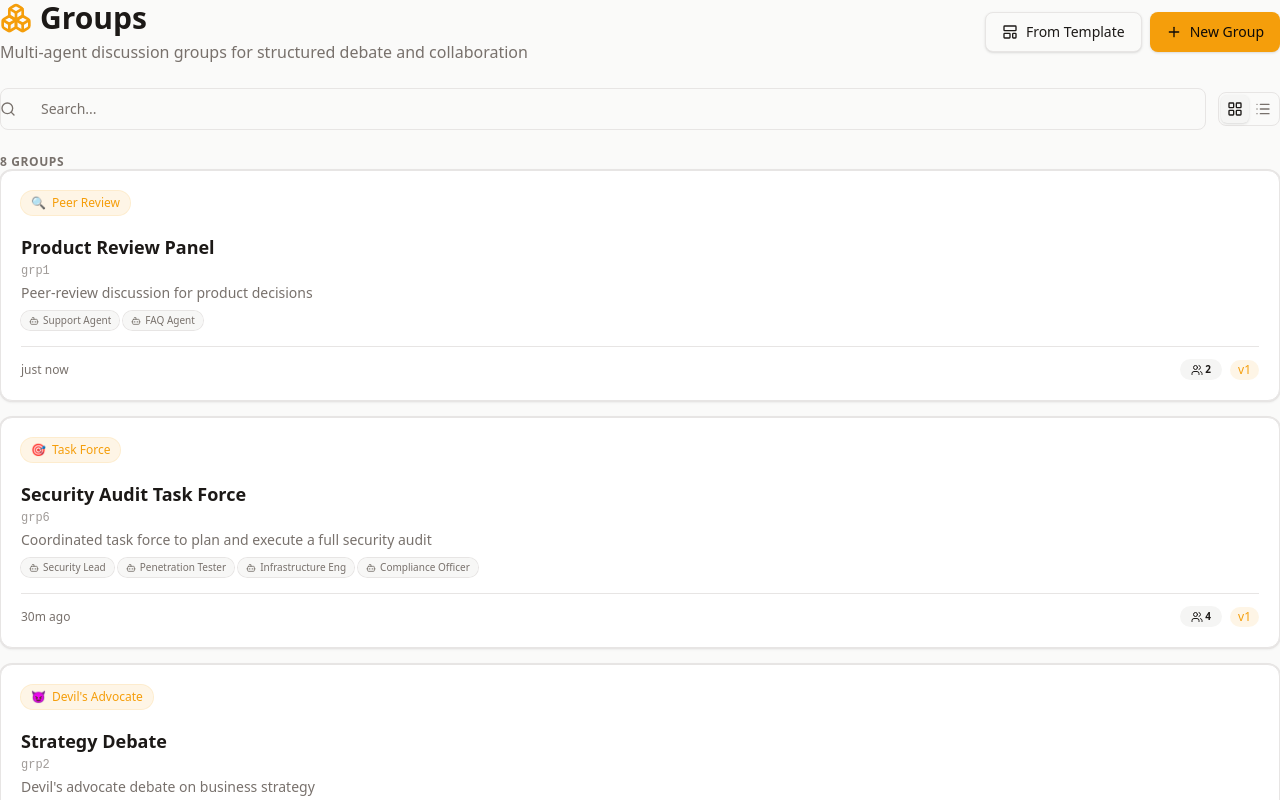
Test: GroupsPage › opens create-or-wizard dialog when create button is clicked
The width and height of the screenshot is (1280, 800).
Click the button with test id "create-group-btn".
click(1215, 32)  # box [1150,12,1279,52]
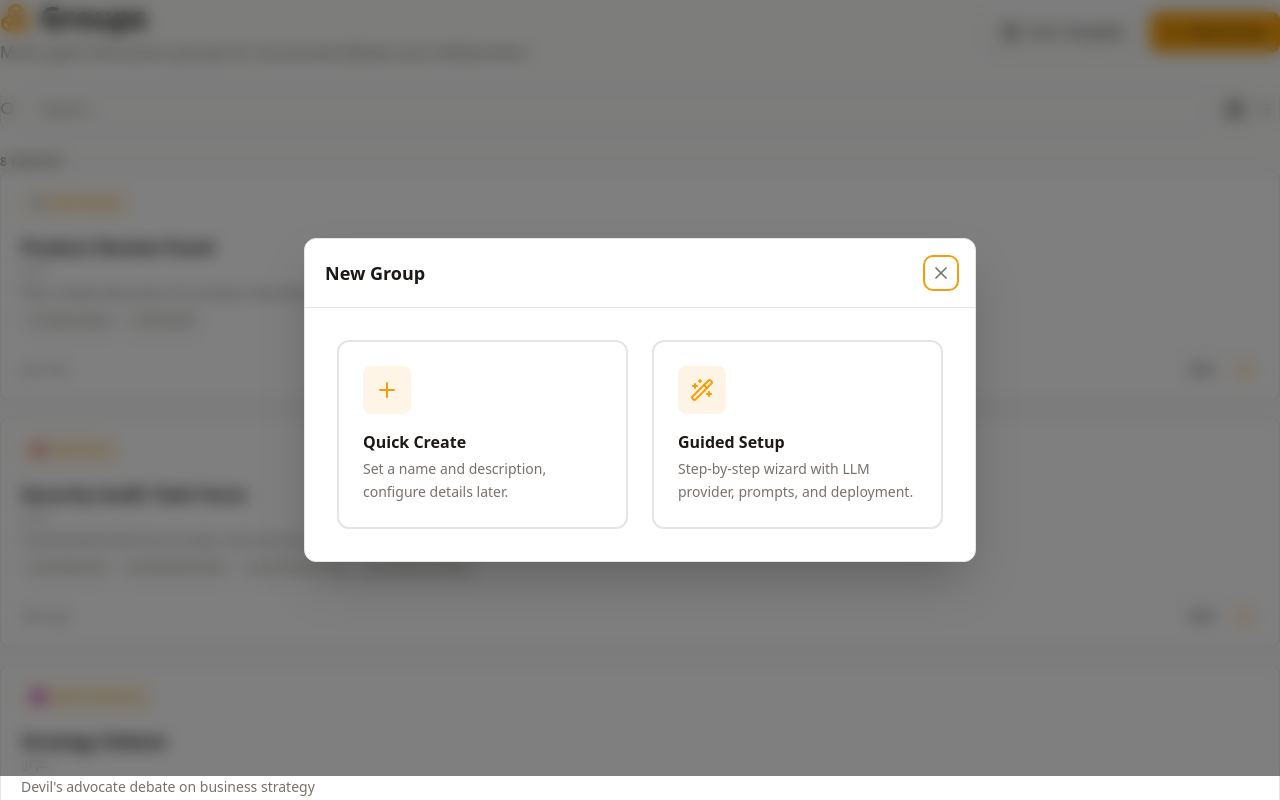
Check: the heading "Quick Create" is shown, box [363,431,466,453]
Check: the heading "Guided Setup" is shown, box [678,431,785,453]
